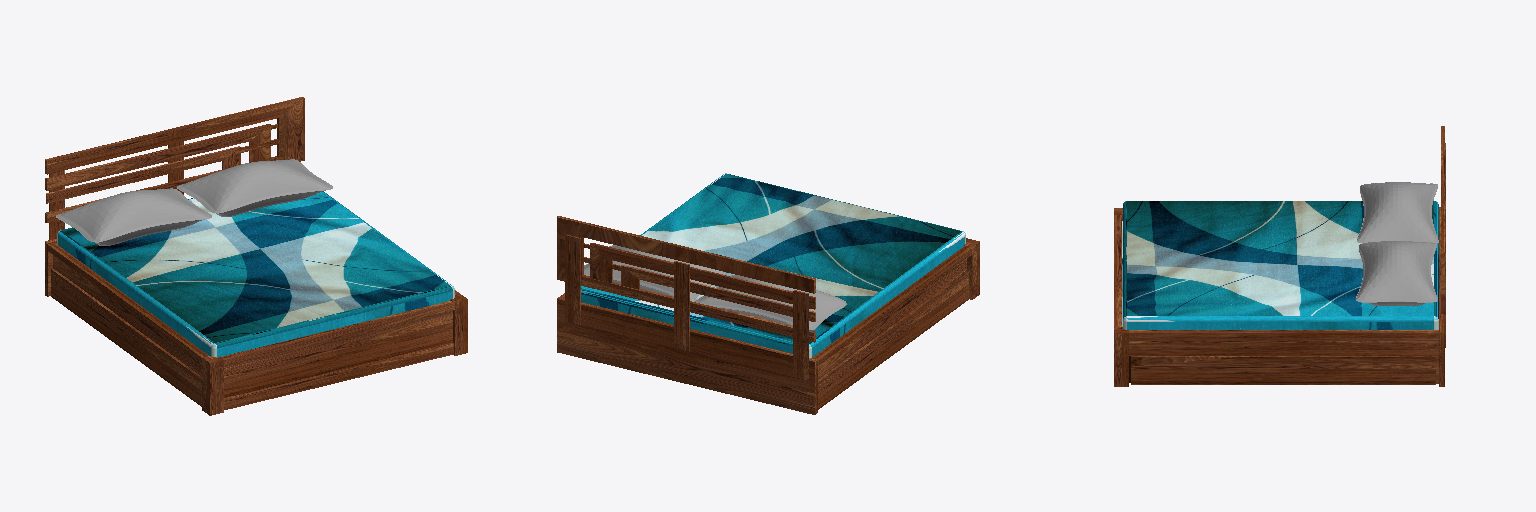
3 renders of one model, left to right at view 1: azimuth 30°, elevation 25°; view 2: azimuth 150°, elevation 25°; view 3: azimuth 270°, elevation 25°, orthographic.
Visible parts, largest first — view 1: Mesh09, Mesh01, Cube.003_Cube.005, Mesh06, Cube, Mesh11, Cube.001; view 2: Mesh09, Cube.002, Mesh01, Cube, Mesh11, Cube.003_Cube.005, Mesh12, Mesh04, Mesh03; view 3: Mesh09, Cube.003_Cube.005, Cube.001, Mesh07, Cube, Mesh01, Cube.002.
Boxes of the visible parts, box(x1,y1,x2,y2) form: Mesh09: box(57, 191, 454, 356); Mesh01: box(45, 97, 304, 222); Cube.003_Cube.005: box(56, 159, 332, 245); Mesh06: box(224, 310, 453, 409); Cube: box(48, 243, 454, 415); Mesh11: box(51, 268, 201, 406); Cube.001: box(450, 290, 467, 355); Mesh09: box(581, 173, 965, 357); Cube.002: box(557, 297, 817, 414); Mesh01: box(557, 216, 815, 342); Cube: box(812, 238, 979, 378); Mesh11: box(818, 271, 968, 409); Cube.003_Cube.005: box(584, 245, 846, 329); Mesh12: box(565, 234, 580, 324); Mesh04: box(674, 261, 689, 350); Mesh03: box(793, 290, 808, 380); Mesh09: box(1122, 201, 1438, 329); Cube.003_Cube.005: box(1356, 182, 1438, 305); Cube.001: box(1114, 327, 1438, 386); Mesh07: box(1131, 356, 1438, 384); Cube: box(1114, 208, 1122, 326); Mesh01: box(1441, 126, 1444, 313); Cube.002: box(1439, 207, 1444, 386).
Bounding box in the file's own units: 69.39 × 34.73 × 77.39.
Materials: 12 (2 with a texture image).